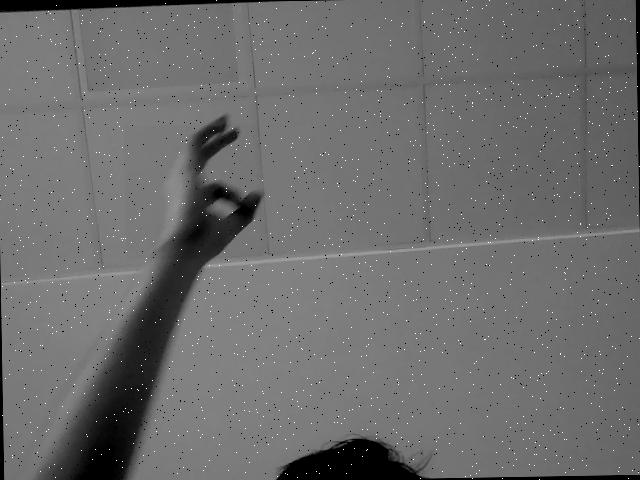OK: (124, 123, 262, 259)
